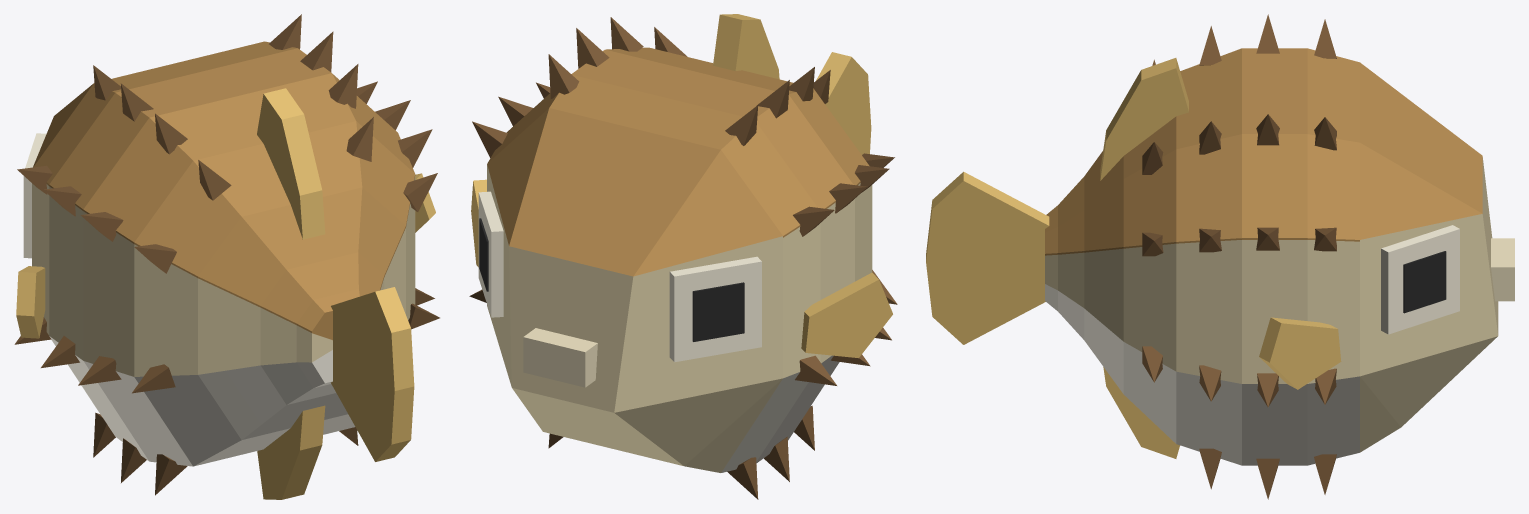
The model's file is Pufferfish.obj.
3 views of the same model, side by side, from view 1: azimuth 30°, elevation 25°; view 2: azimuth 150°, elevation 25°; view 3: azimuth 270°, elevation 25° (orthographic). The views are drawn at different scales.
Visible parts, largest first — view 1: Pufferfish; view 2: Pufferfish; view 3: Pufferfish.
Boxes of the visible parts, x1,y1,x2,y2 form: Pufferfish: (14, 14, 439, 499); Pufferfish: (469, 14, 897, 499); Pufferfish: (926, 14, 1514, 499).
Bounding box in the file's own units: 7.47 × 6.9 × 9.42.
Materials: 1 (1 with a texture image).
